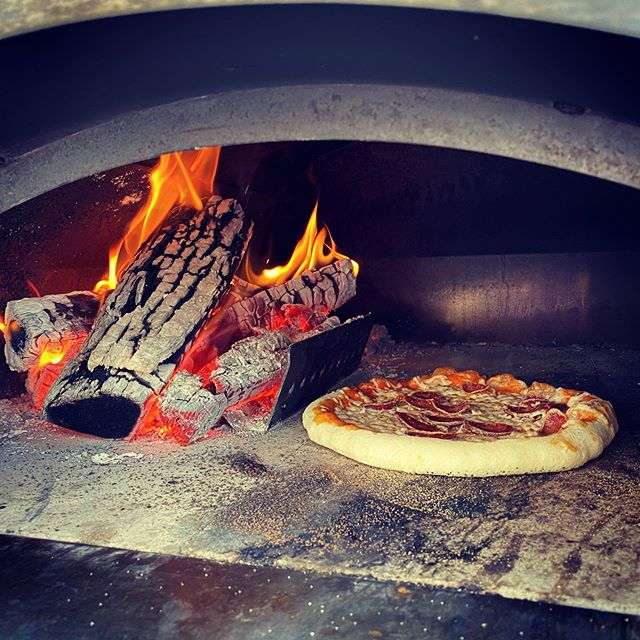fireplace: (3, 176, 365, 434)
pizza: (292, 354, 622, 487)
